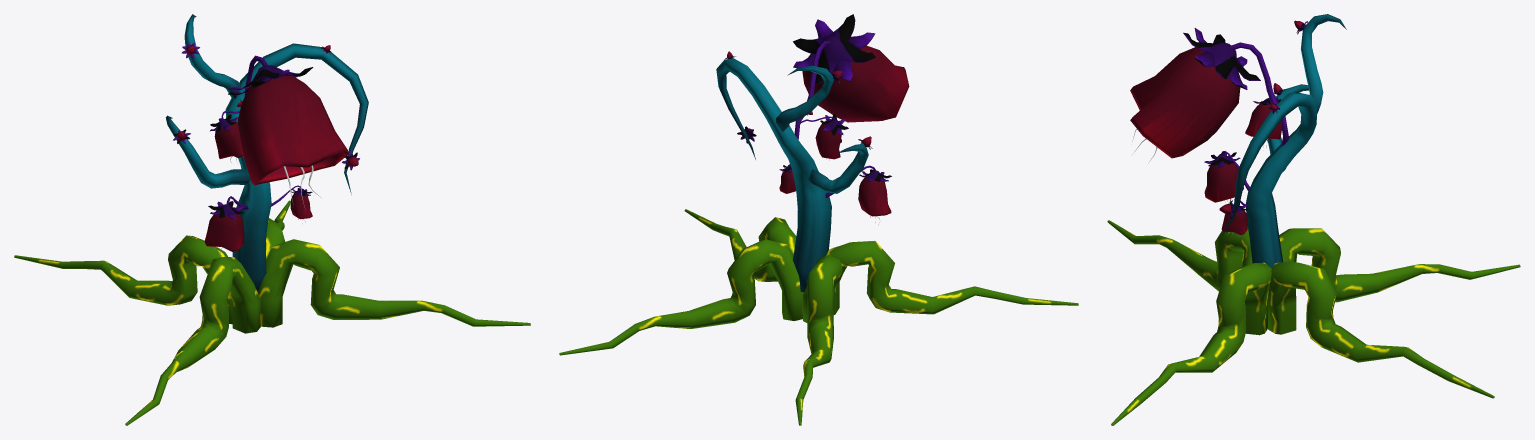
Rendered from Mutant_Bellflower.fbx.
3 renders of one model, left to right at view 1: azimuth 30°, elevation 25°; view 2: azimuth 150°, elevation 25°; view 3: azimuth 270°, elevation 25°, orthographic. The views are drawn at different scales.
Visible parts, largest first — view 1: Mutant_Bellflower8, Mutant_Bellflower9, Branch12, Branch11, Branch13, Mutant_Bellflower, Mutant_Bellflower2, Mutant_Bellflower1, Branch10; view 2: Mutant_Bellflower9, Mutant_Bellflower8, Branch10, Branch11, Branch13, Branch12, Mutant_Bellflower, Mutant_Bellflower2; view 3: Mutant_Bellflower8, Mutant_Bellflower9, Branch10, Branch12, Branch13, Branch11, Mutant_Bellflower, Mutant_Bellflower2, Mutant_Bellflower1.
Boxes of the visible parts, <box> form: Mutant_Bellflower8: <box>228,55,348,207</box>; Mutant_Bellflower9: <box>165,14,368,291</box>; Branch12: <box>257,239,530,327</box>; Branch11: <box>125,257,260,425</box>; Branch13: <box>14,235,232,324</box>; Mutant_Bellflower: <box>204,196,248,255</box>; Mutant_Bellflower2: <box>210,110,243,162</box>; Mutant_Bellflower1: <box>269,185,312,223</box>; Branch10: <box>266,200,290,259</box>; Mutant_Bellflower9: <box>716,58,868,292</box>; Mutant_Bellflower8: <box>793,14,909,139</box>; Branch10: <box>559,239,803,355</box>; Branch11: <box>825,241,1078,314</box>; Branch13: <box>795,254,842,425</box>; Branch12: <box>684,209,796,281</box>; Mutant_Bellflower: <box>825,165,891,224</box>; Mutant_Bellflower2: <box>800,113,848,160</box>; Mutant_Bellflower8: <box>1130,28,1288,163</box>; Mutant_Bellflower9: <box>1221,14,1346,302</box>; Branch10: <box>1268,261,1494,398</box>; Branch12: <box>1111,262,1271,425</box>; Branch13: <box>1279,228,1520,302</box>; Branch11: <box>1107,220,1252,291</box>; Mutant_Bellflower: <box>1204,151,1249,203</box>; Mutant_Bellflower2: <box>1245,95,1281,150</box>; Mutant_Bellflower1: <box>1221,200,1248,236</box>.
Bounding box in the file's own units: 400 × 269 × 343.
